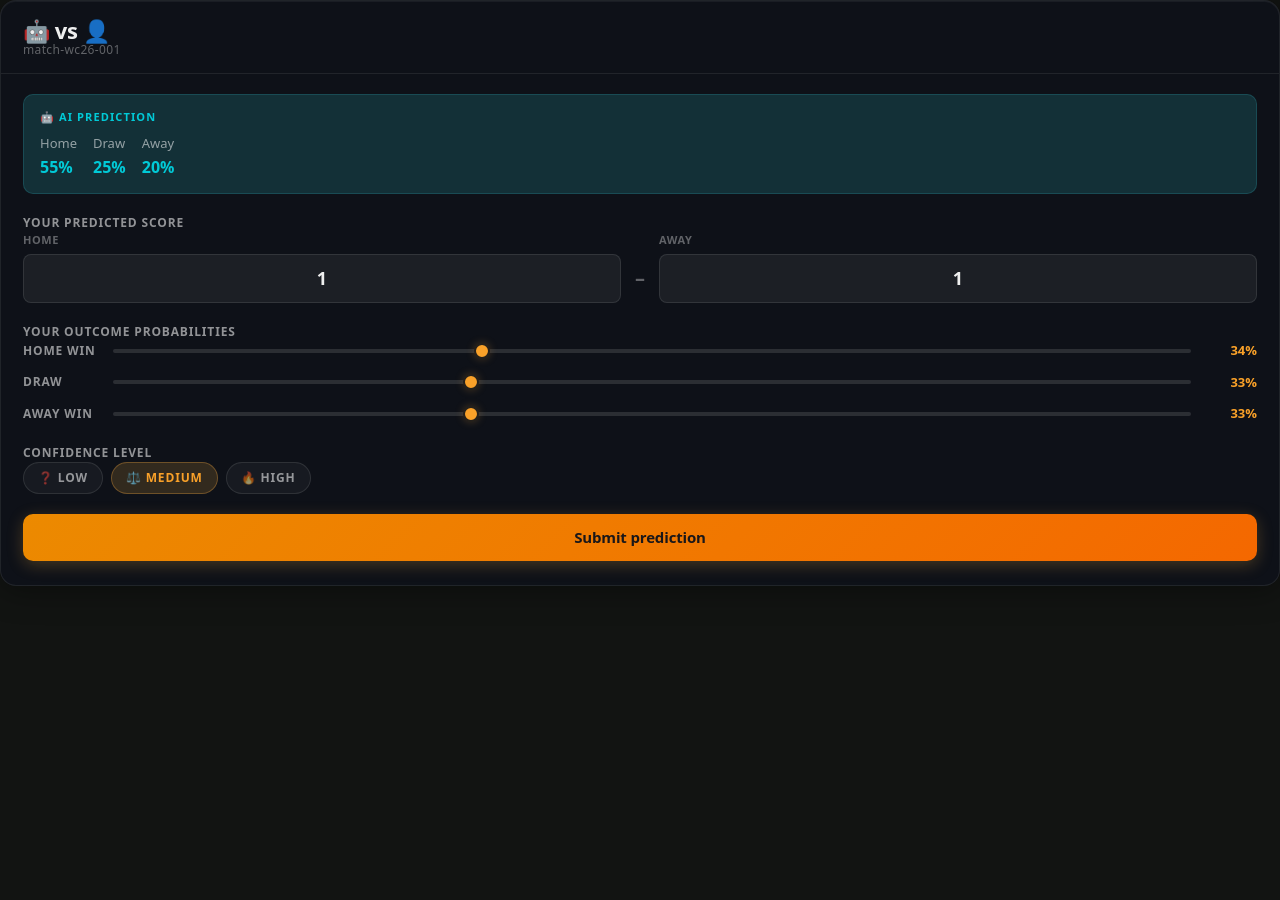
Test: DuelCard — submit failure › shows error message on POST failure and keeps form visible for retry
Click the button "Submit prediction". click: (640, 538)
box: top-left (23, 514), bottom-right (1257, 561)
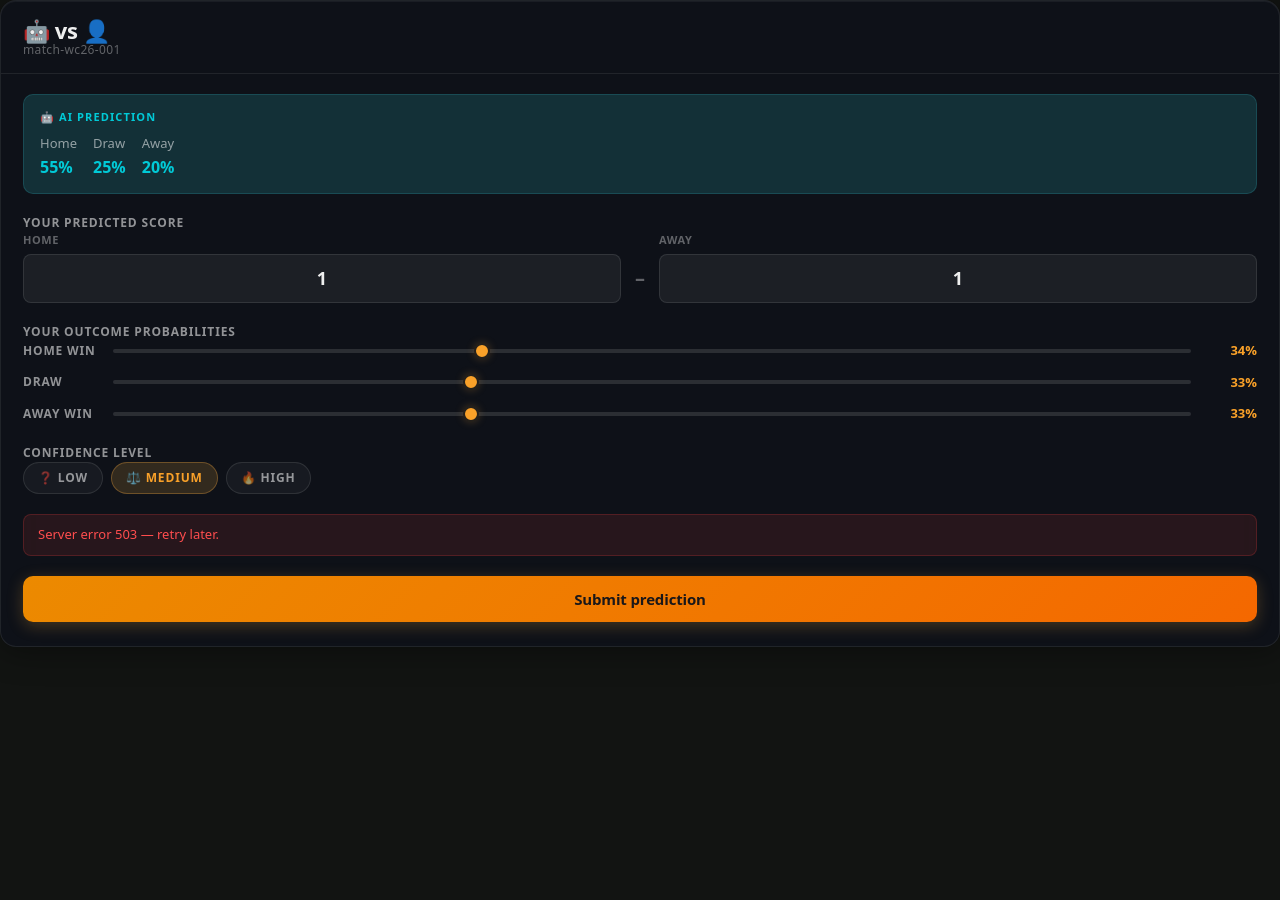
Expected: the button "Submit prediction" is shown, top-left (23, 576), bottom-right (1257, 622)
Expected: the message "Server error 503 — retry later." is shown, top-left (23, 514), bottom-right (1257, 556)
Expected: the message shows "Server error 503", top-left (38, 525), bottom-right (219, 543)
